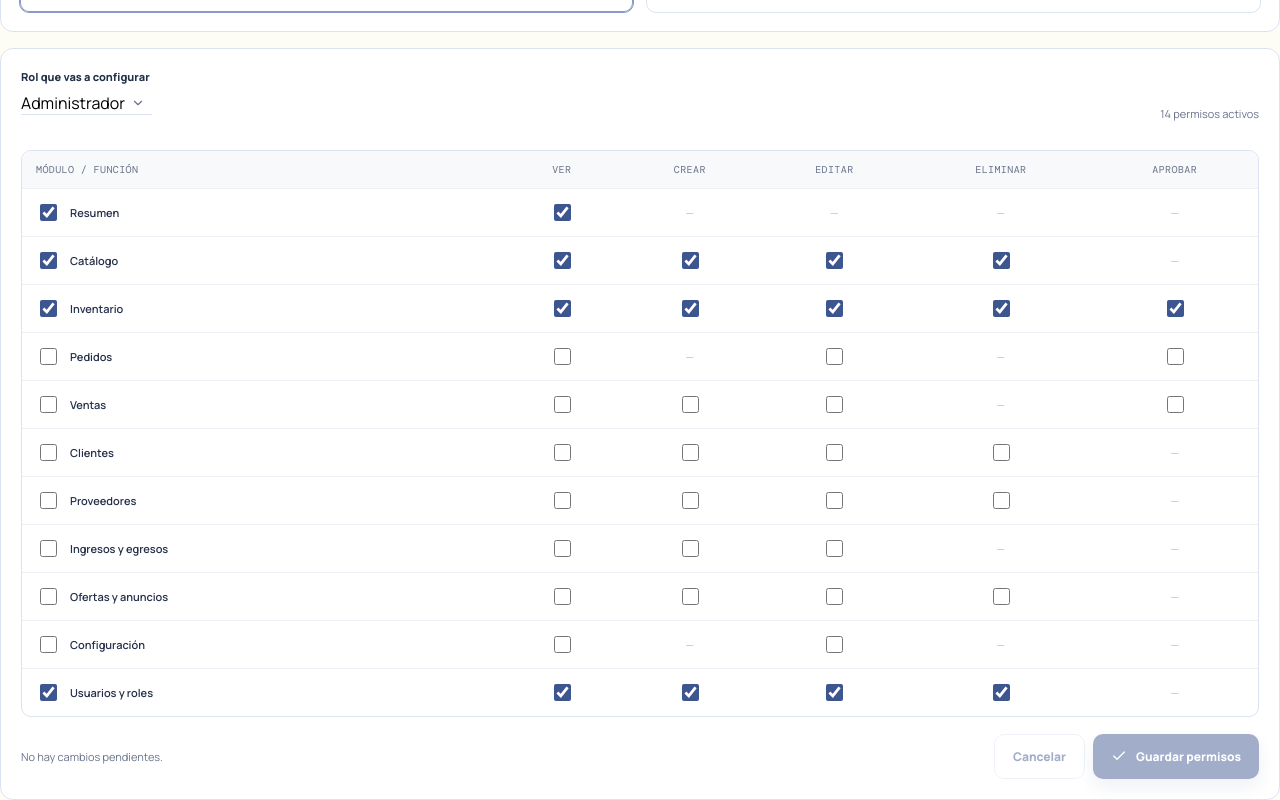
Scenario: módulos asignados por rol › restaura la matriz y limpia el borrador al cancelar
(page scrolled)
Check: the button "Cancelar" is disabled, box [994,734,1085,778]
Click the checkbox named "Seleccionar todos los permisos de Ingresos y egresos". click: coordinates (48, 548)
box: [40,540,57,556]
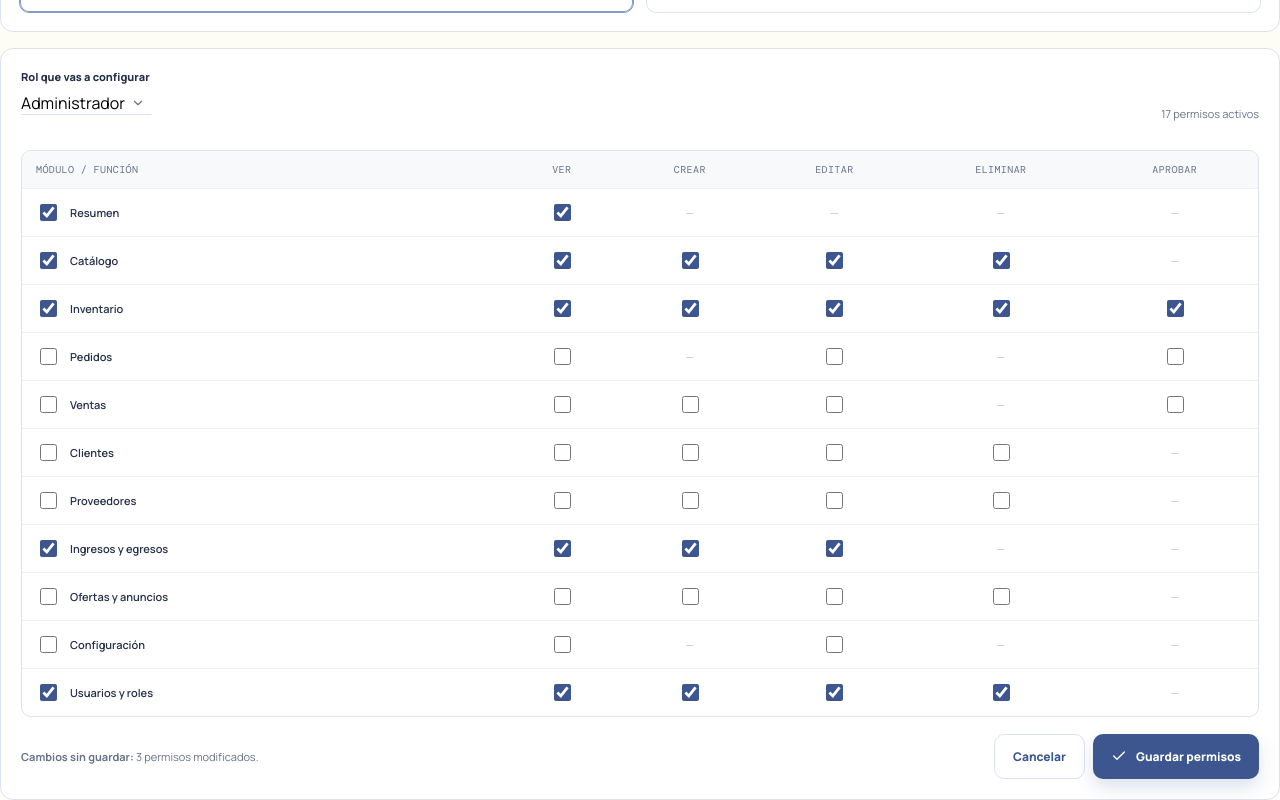
Check: the button "Cancelar" is enabled
Click the button "Cancelar". click: coordinates (1040, 756)
box: [994,734,1085,778]
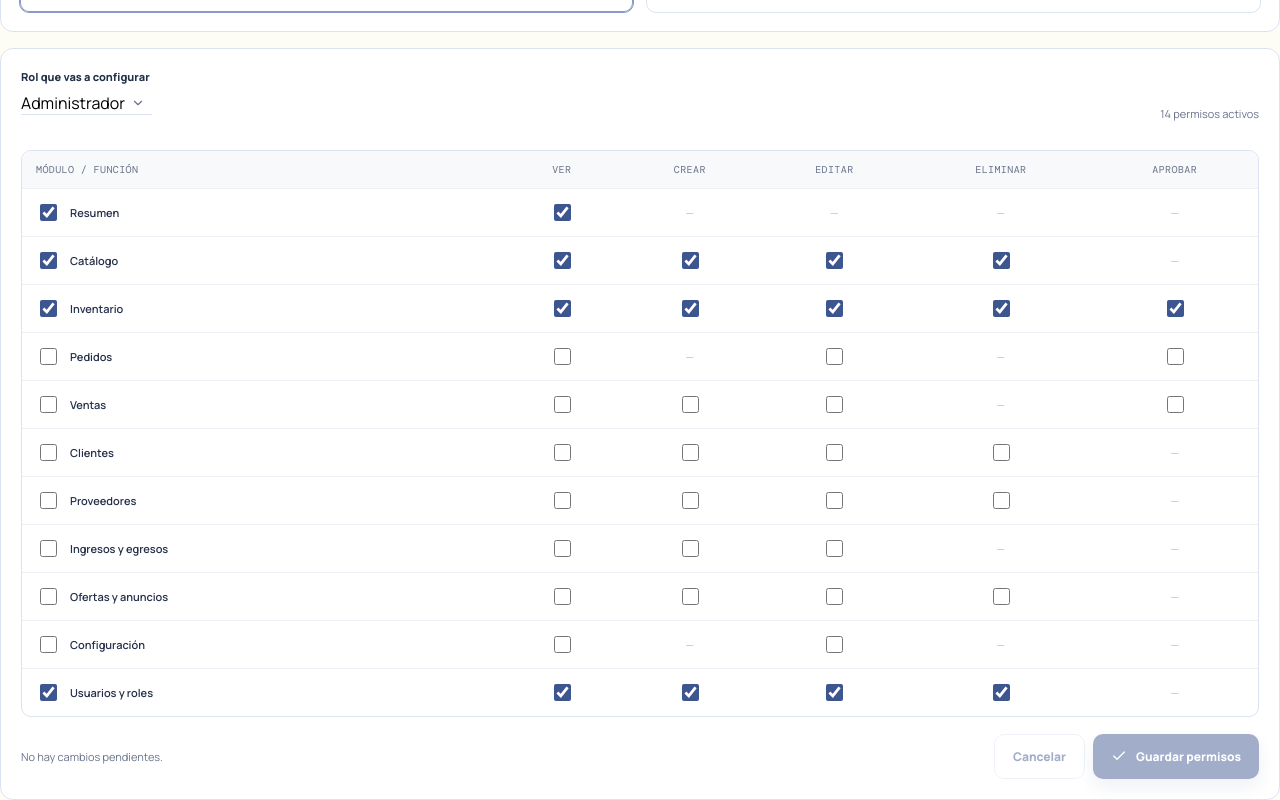
Check: the text "No hay cambios pendientes." is shown, box [21,748,163,764]
Check: the button "Guardar permisos" is disabled, box [1093,734,1259,778]
